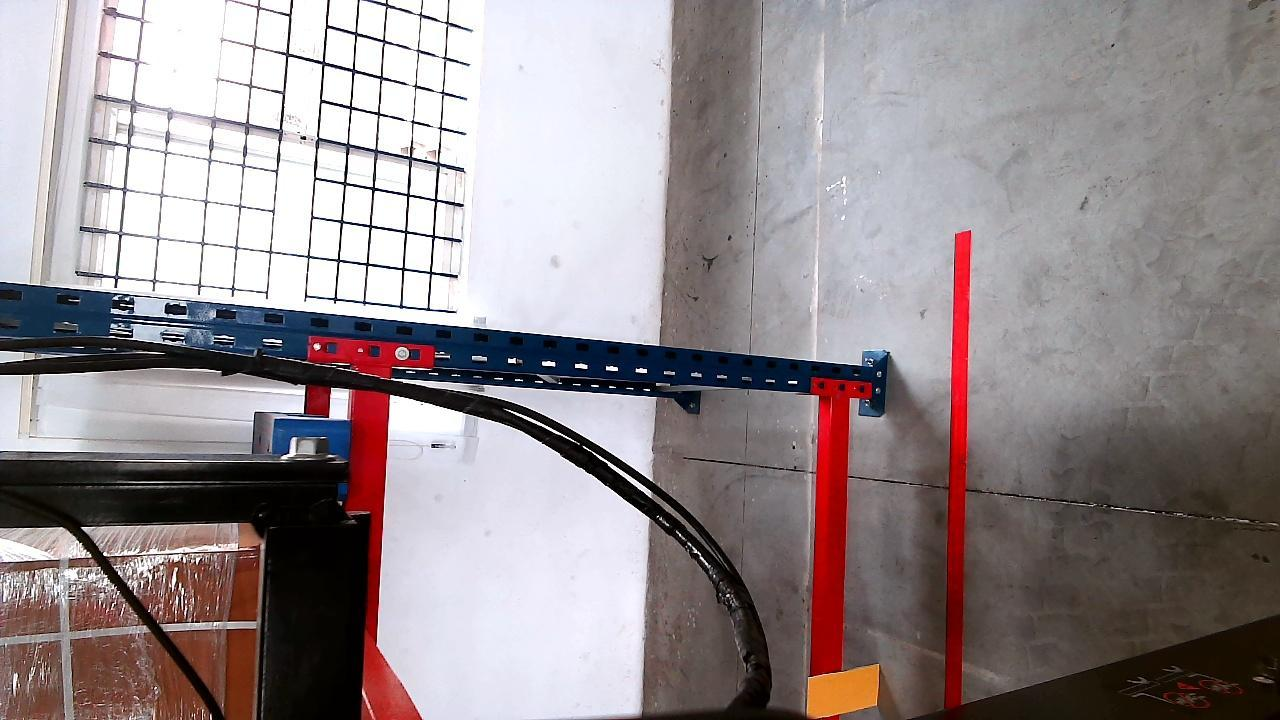red_line: (943, 225, 971, 717)
